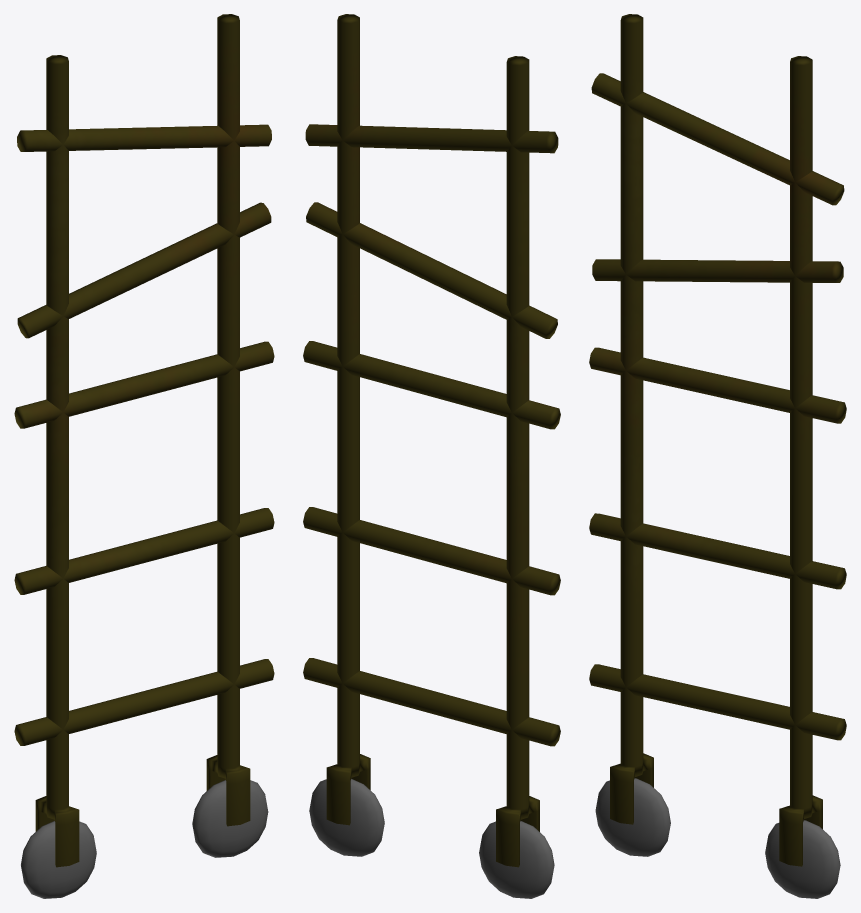
Rendered from ladder.fbx.
3 renders of one model, left to right at view 1: azimuth 30°, elevation 25°; view 2: azimuth 150°, elevation 25°; view 3: azimuth 330°, elevation 25°, orthographic.
Parts seen in each view (by area): view 1: polySurface473; view 2: polySurface473; view 3: polySurface473.
Boxes of the visible parts, <box> form: polySurface473: <box>14,14,274,898</box>; polySurface473: <box>303,14,560,898</box>; polySurface473: <box>589,14,846,898</box>.
Bounding box in the file's own units: 0.7562 × 2.44 × 0.131.
Materials: 1 (1 with a texture image).
